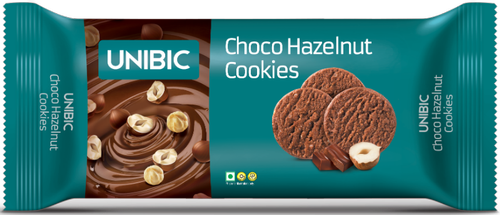VEG: (224, 170, 237, 182)
